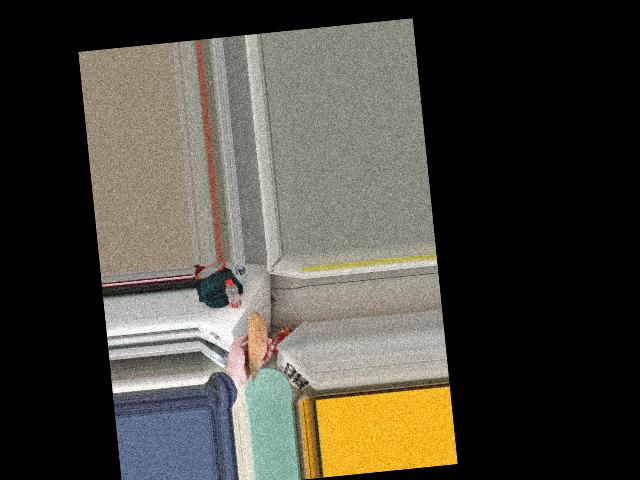sweet_potato: (243, 311, 272, 372)
